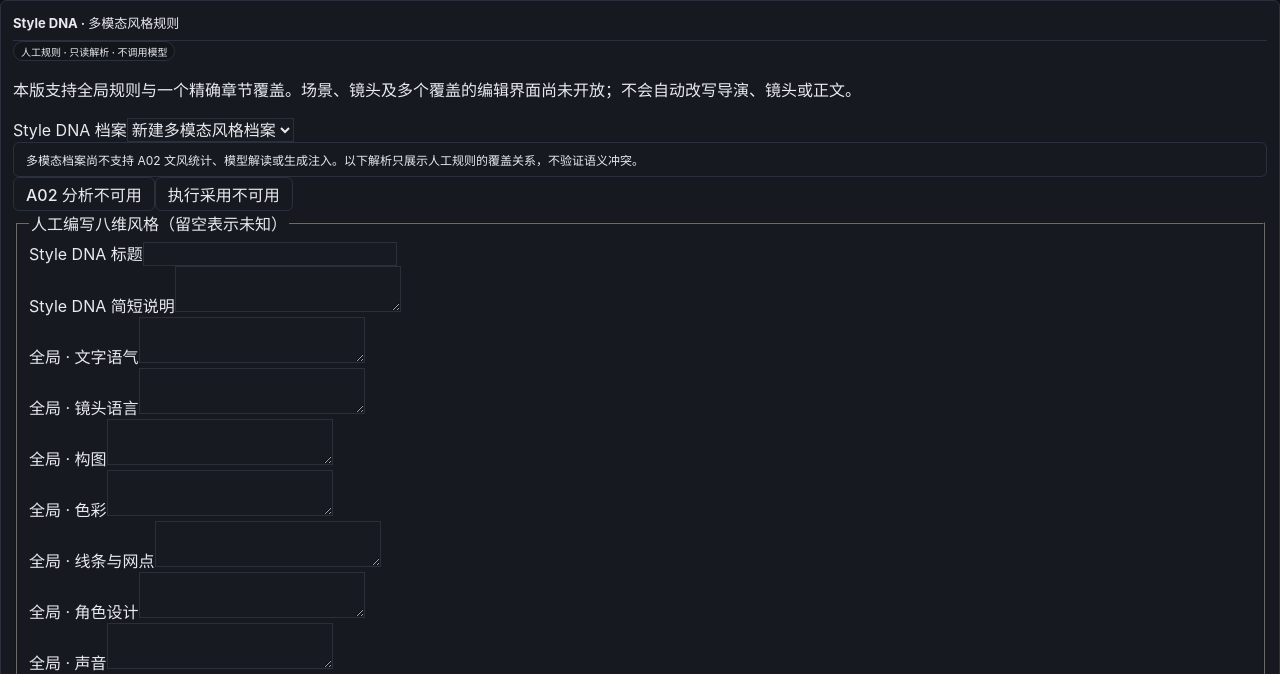
quarantines a forbidden save response without keeping private field values
Select "s1 · v1 · APPROVED" in the dropdown labelled "Style DNA 档案" at point(210, 130), box [127,118,294,142]
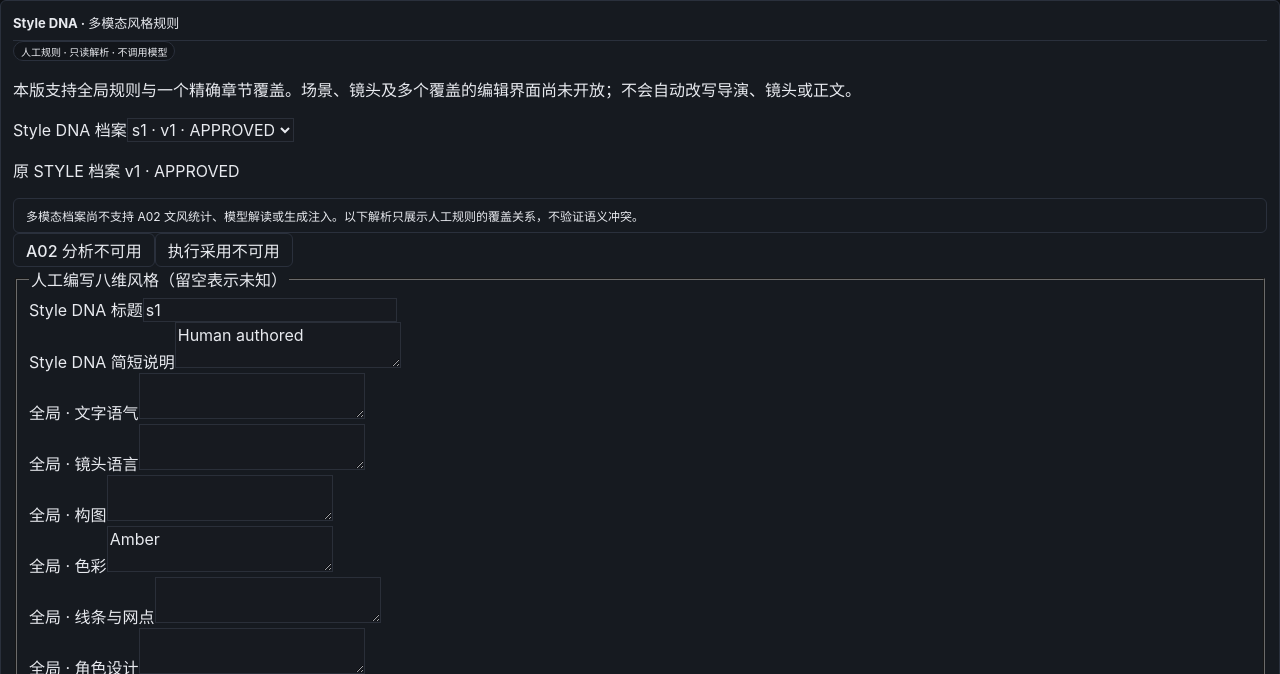
Replace the text in the text box labelled "全局 · 色彩" with "PRIVATE_SAVE" at point(220, 549), box [107,526,333,572]
(page scrolled)
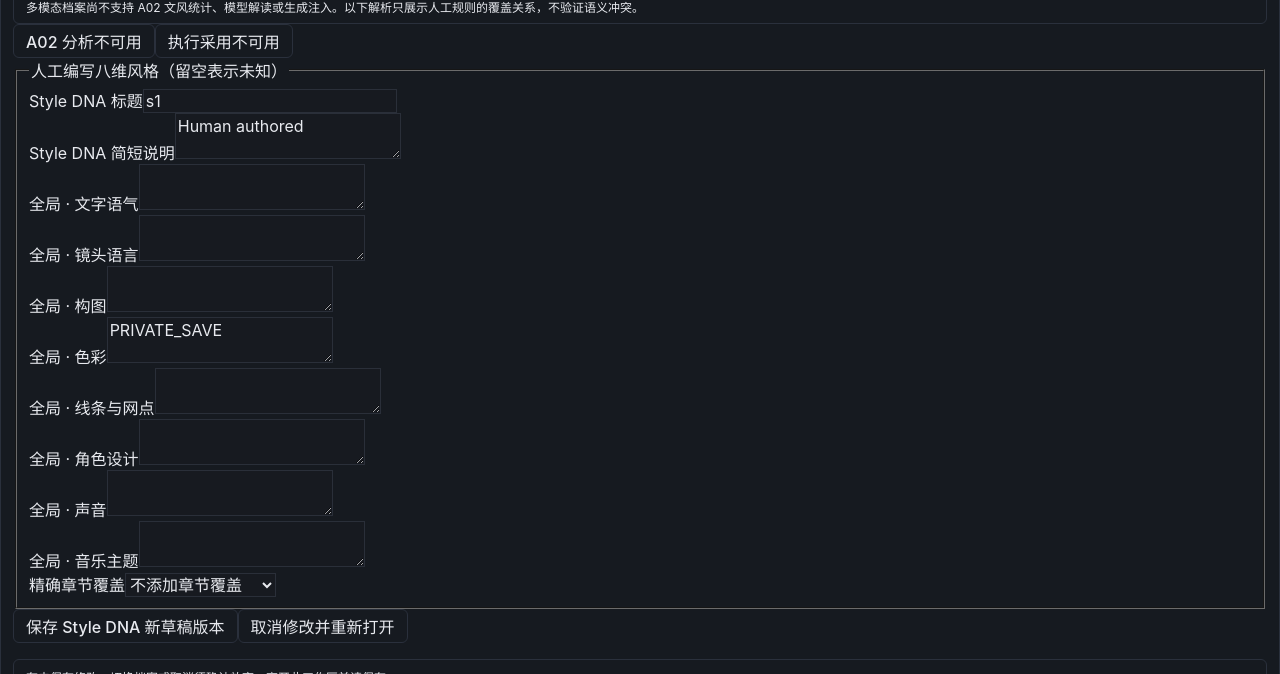
Click the button "保存 Style DNA 新草稿版本" at point(125, 626), box [13,609,238,643]
(page scrolled)
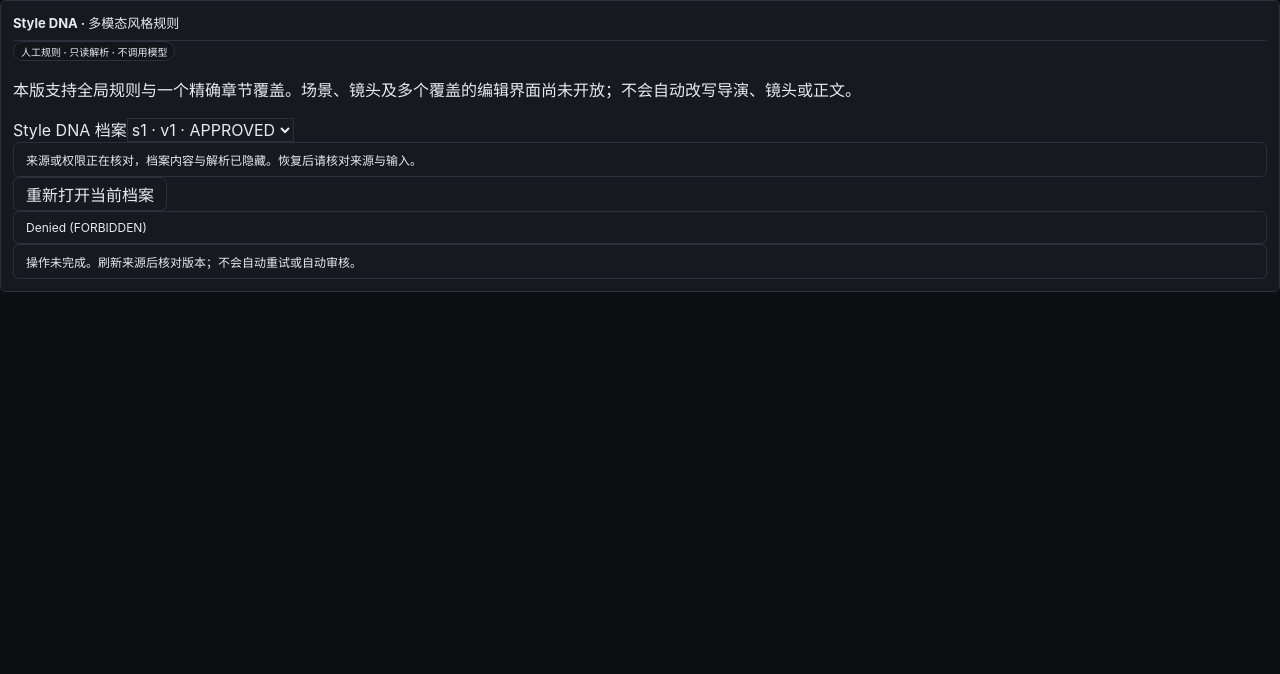
Expected: the field showing "PRIVATE_SAVE" is not shown
Expected: the text "Denied (FORBIDDEN)" is shown, [13,211,1267,244]
